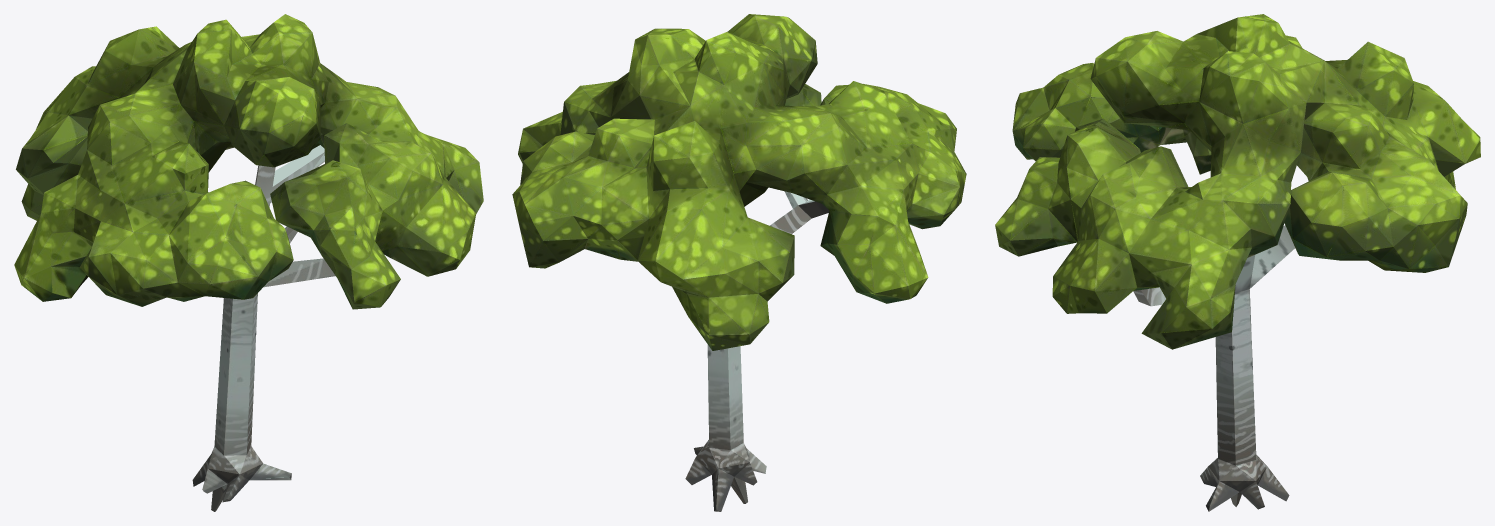
The model's file is full_tree.glb.
3 renders of one model, left to right at view 1: azimuth 30°, elevation 25°; view 2: azimuth 150°, elevation 25°; view 3: azimuth 270°, elevation 25°, orthographic. The views are drawn at different scales.
Parts seen in each view (by area): view 1: FullTree; view 2: FullTree; view 3: FullTree.
Boxes of the visible parts, box(x1,y1,x2,y2) form: FullTree: box(14, 14, 483, 511); FullTree: box(512, 14, 966, 511); FullTree: box(995, 14, 1480, 511).
Size of the model in its own units: 6.35 by 6.71 by 5.93.
1 material, 1 textured.
